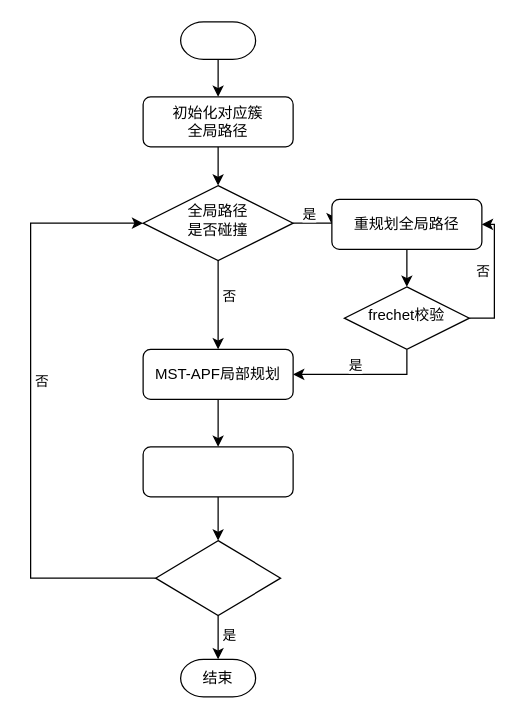
This 526x719 diagram has some shape labels left out. The box of each missing label's shape, as (x1, y1, x2, y2) in pixels:
开始: (179, 21, 256, 59)
是否到达目标: (154, 539, 281, 616)
更新环境信息: (142, 446, 293, 497)
